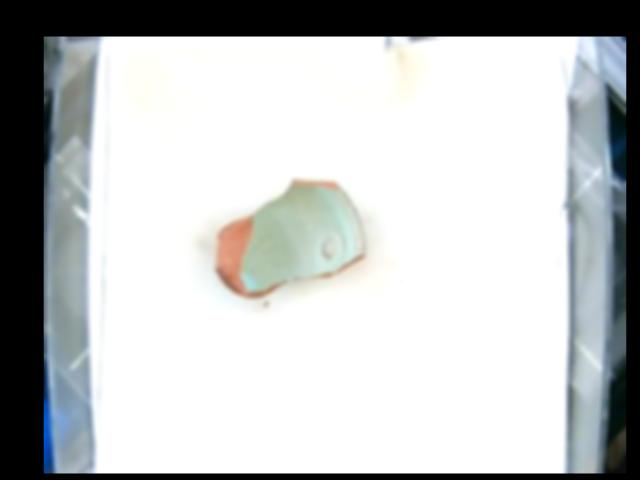China: (217, 178, 368, 297)
